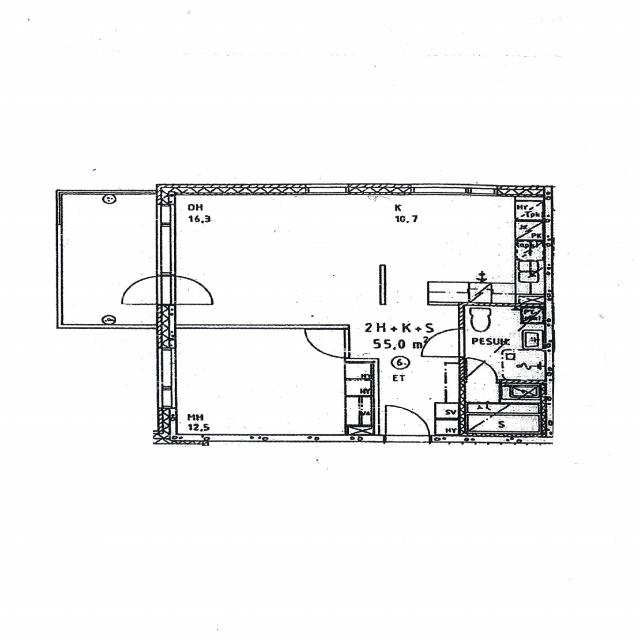door: (386, 434, 430, 474), (386, 403, 430, 442), (157, 275, 216, 304), (116, 275, 175, 304), (420, 329, 465, 356), (305, 330, 349, 357), (468, 360, 496, 384)
